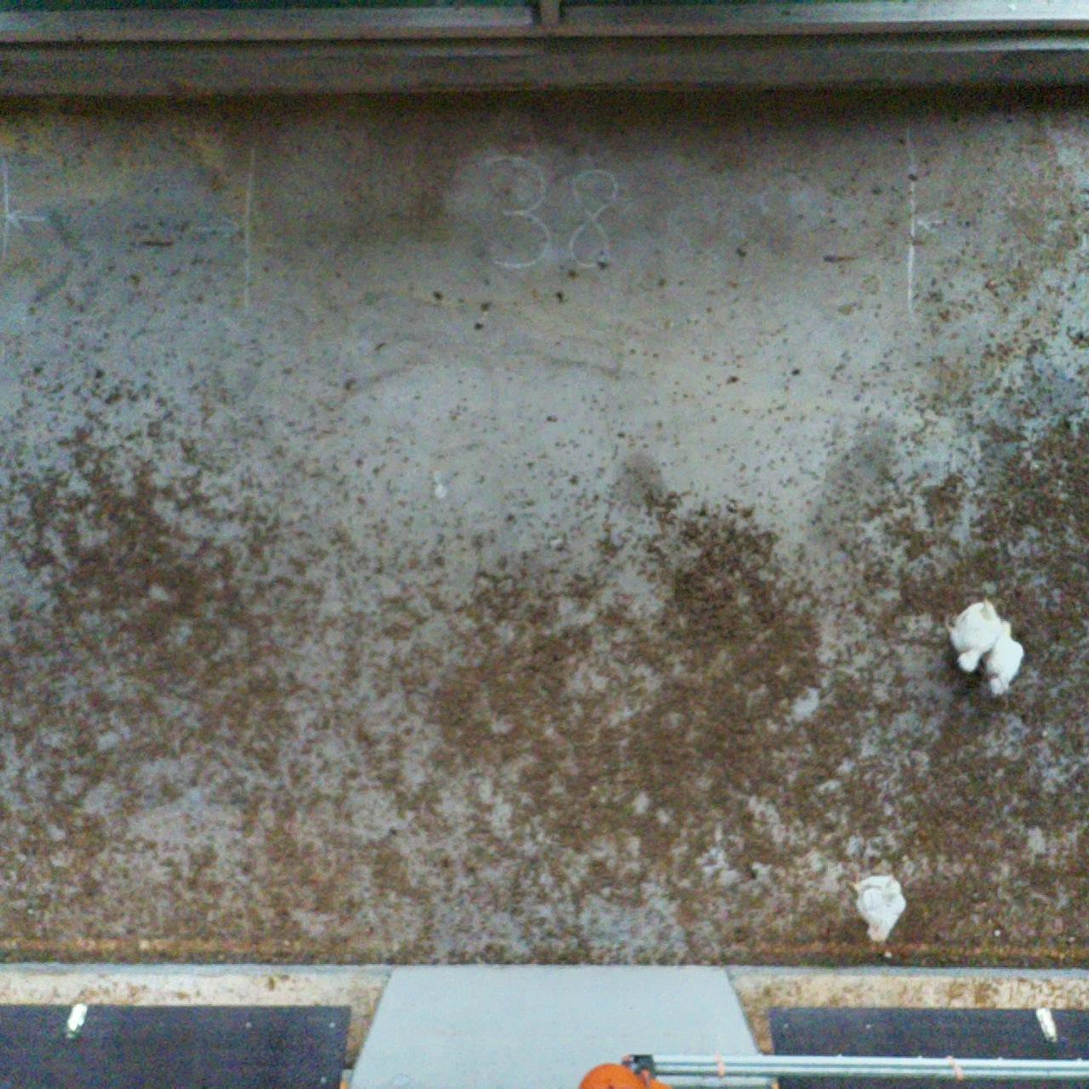chicken: (942, 596, 1008, 675), (970, 618, 1031, 698), (844, 871, 909, 945)
